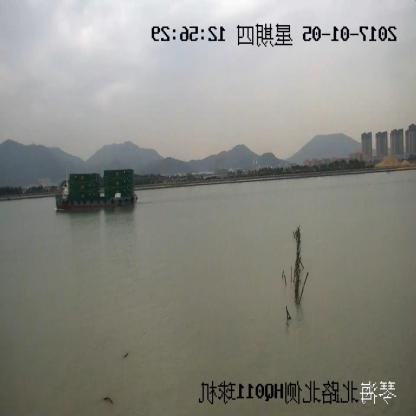Container Ship: (57, 169, 136, 211)
